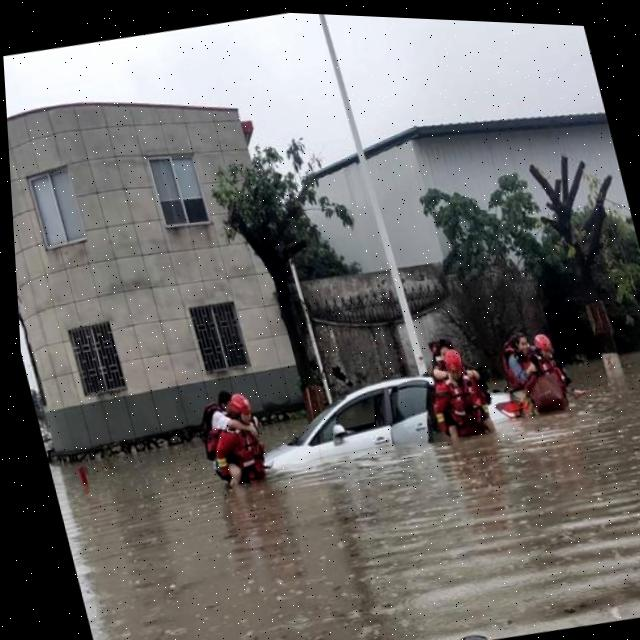civilian: (178, 377, 264, 491), (404, 326, 490, 434), (490, 316, 551, 408)
rescuer: (420, 338, 508, 457), (205, 387, 282, 496), (512, 327, 595, 428)
